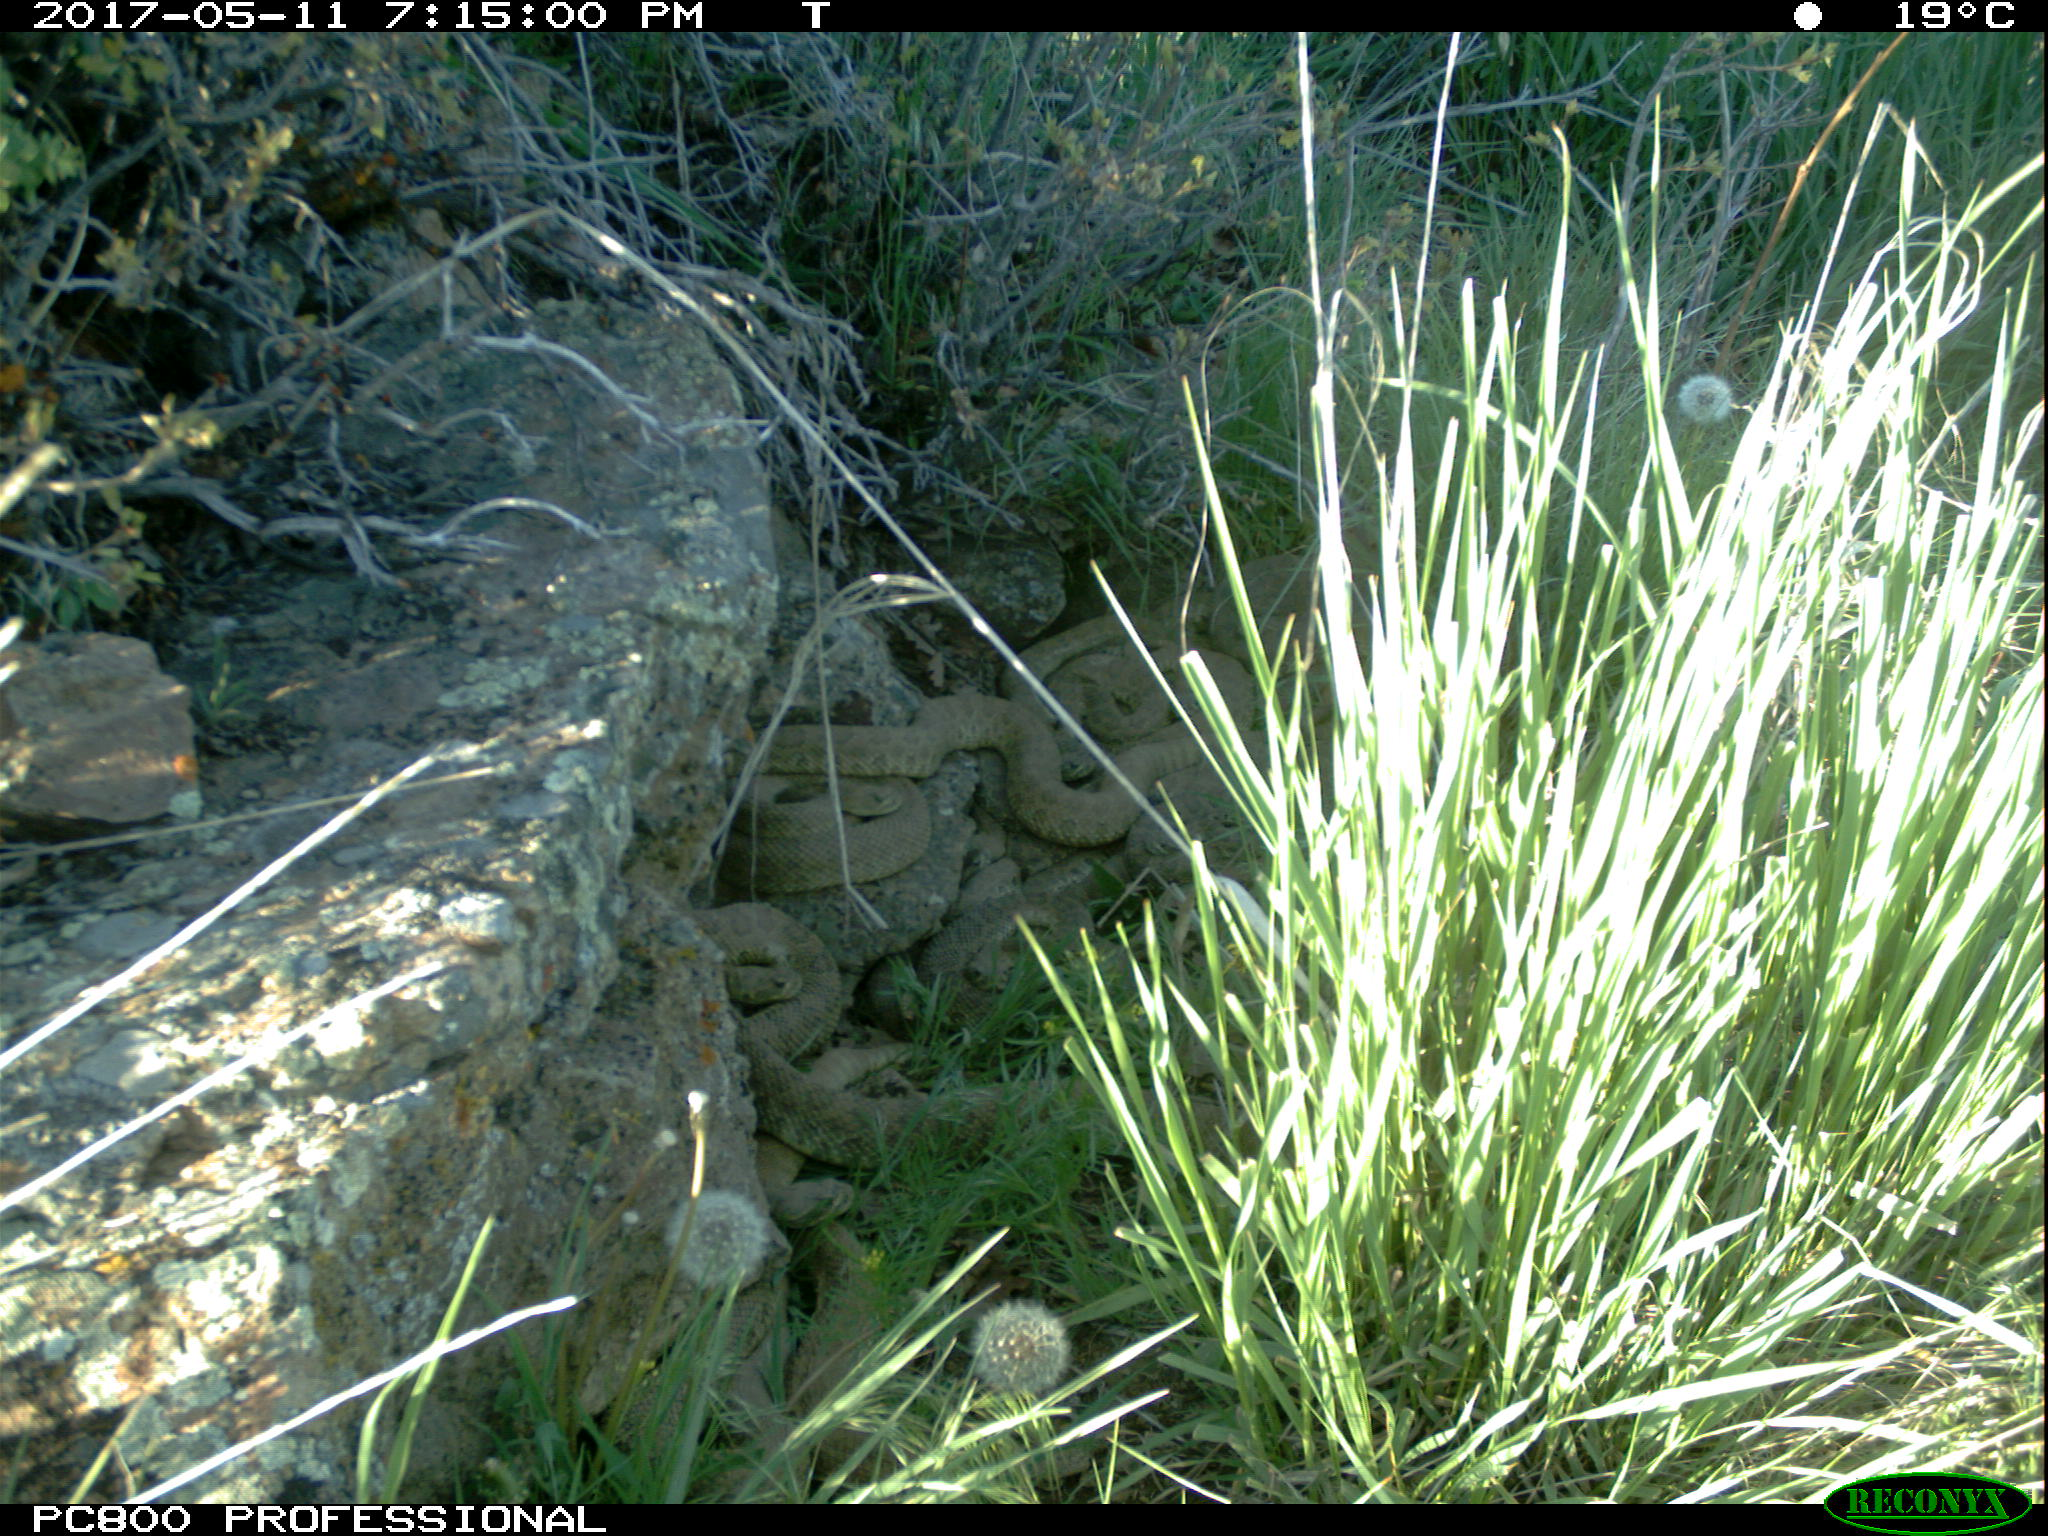snake: (777, 692, 1229, 842), (787, 1058, 1255, 1171), (684, 892, 869, 1165), (777, 1176, 897, 1468), (1034, 620, 1285, 745), (724, 766, 939, 892), (911, 894, 1098, 1012), (1200, 550, 1313, 655)
